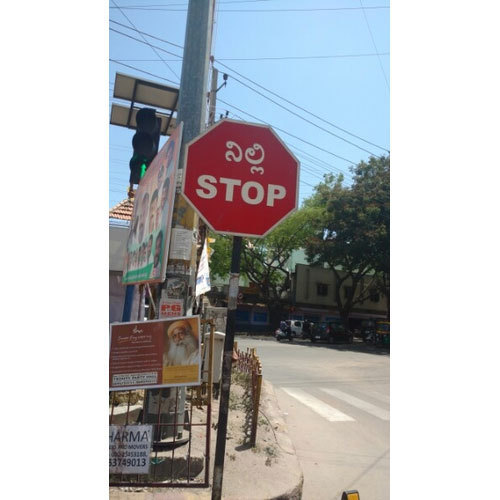stop: (191, 124, 292, 226)
